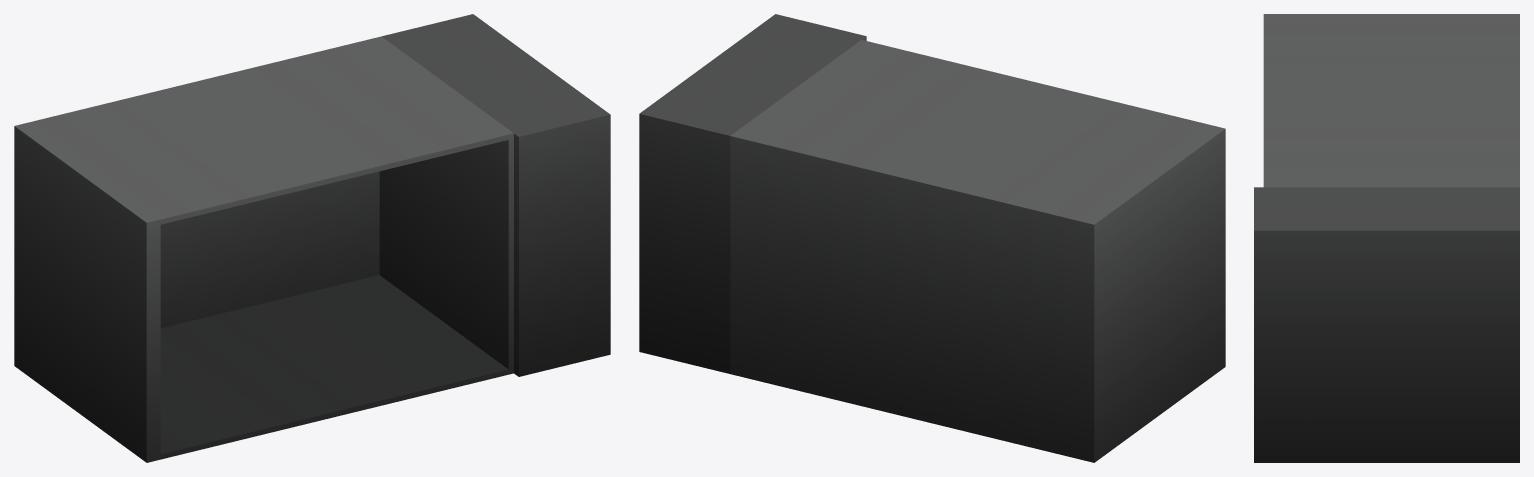
The model's file is Oven.fbx.
The picture shows the model from 3 angles, left to right: view 1: azimuth 30°, elevation 25°; view 2: azimuth 150°, elevation 25°; view 3: azimuth 270°, elevation 25°; orthographic projection. The views are drawn at different scales.
Visible parts, largest first — view 1: Oven; view 2: Oven; view 3: Oven.
Boxes of the visible parts, left/top/right/bottom form: Oven: left=14, top=14, right=610, bottom=462; Oven: left=639, top=14, right=1225, bottom=462; Oven: left=1254, top=14, right=1519, bottom=462.
Size of the model in its own units: 80 by 40 by 41.5.
